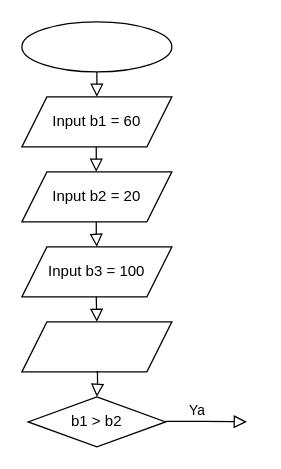
Image size: 281x469. Some labels were removed from this diagram. Here are the shapes that lost their labels. From the top down, the centre of each, then its label:
At pixel 96 46: "Start".
At pixel 96 346: "Input b4 = 40".
